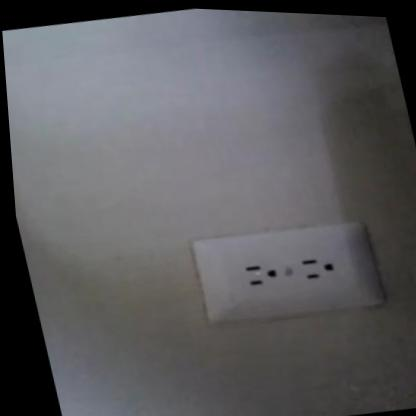OUTLET: (185, 211, 389, 334)
